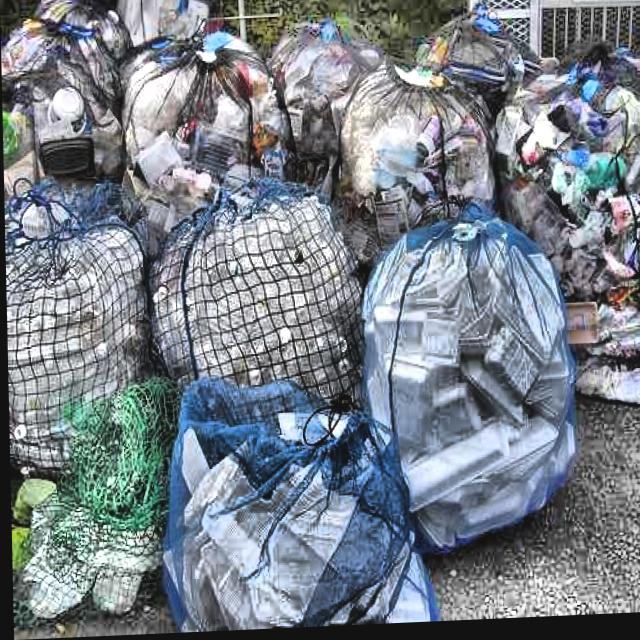Plastic: (356, 211, 592, 569), (155, 369, 436, 634)
